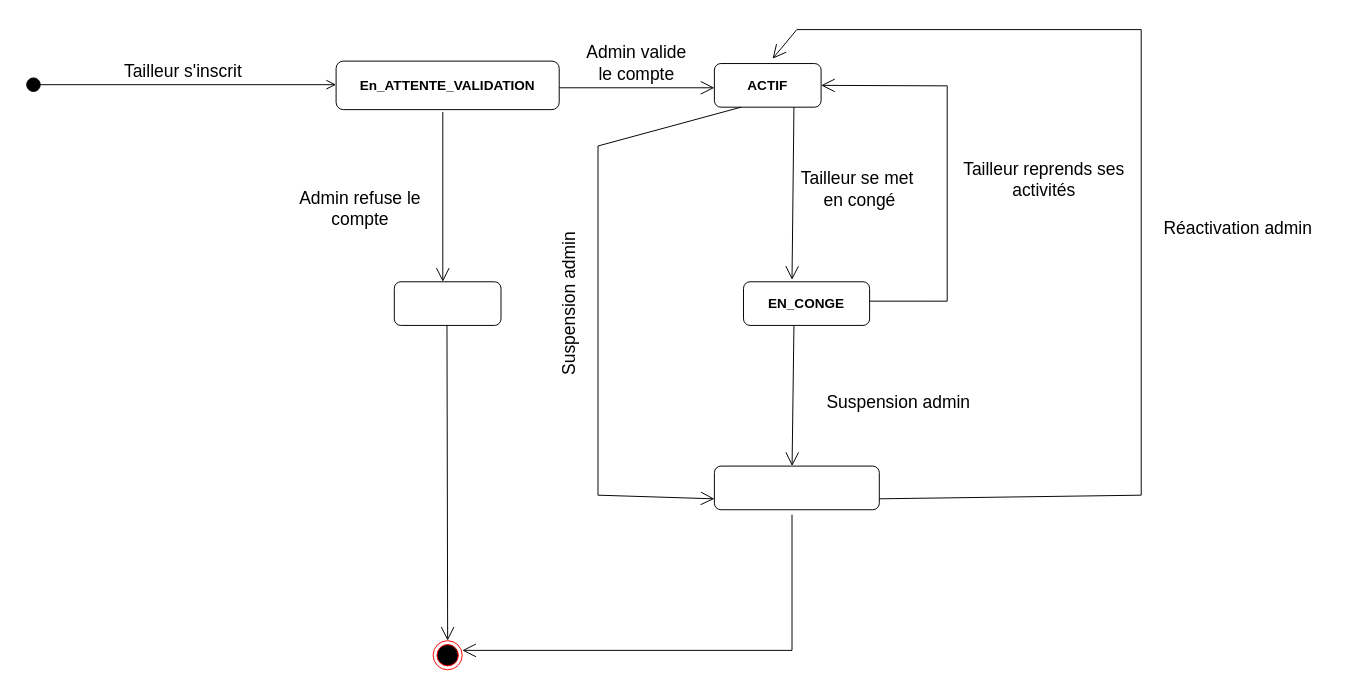
The diagram is 1352 pixels wide and 687 high, and some of its shapes have lost their labels. Each missing label, with the centre of its shape:
"REFUSE" goes at point 447,303.
"SUSPENDU" goes at point 796,487.
